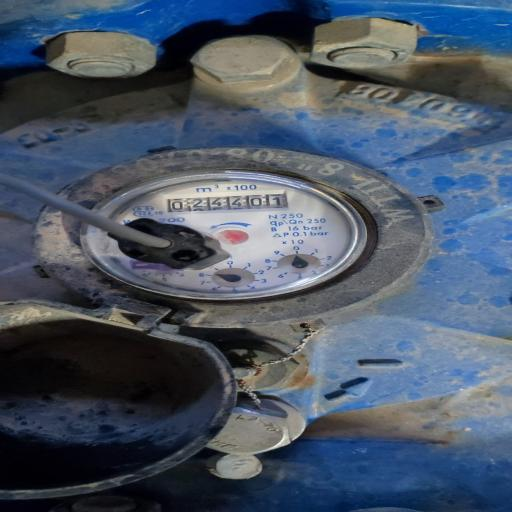0: (165, 201, 188, 211), (248, 196, 265, 208)
1: (268, 196, 285, 207)
2: (188, 197, 208, 209)
4: (228, 197, 248, 208), (211, 197, 227, 208)
medida: (162, 192, 291, 214)
